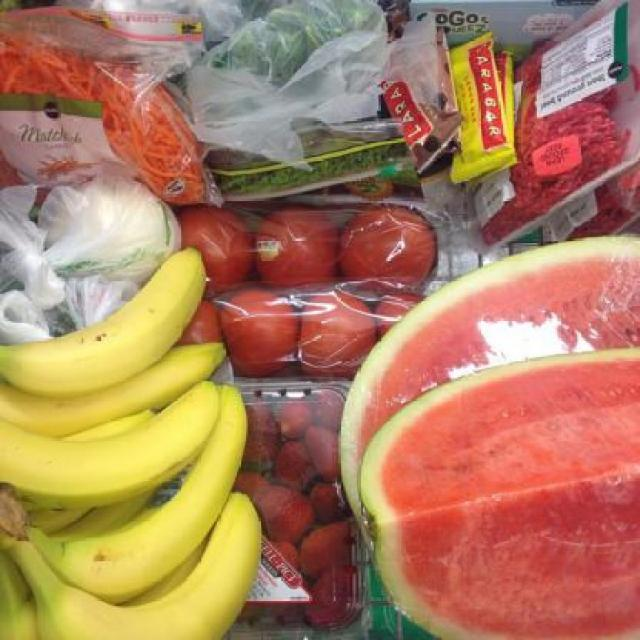Watermelon: (335, 233, 639, 550), (359, 347, 639, 639)
